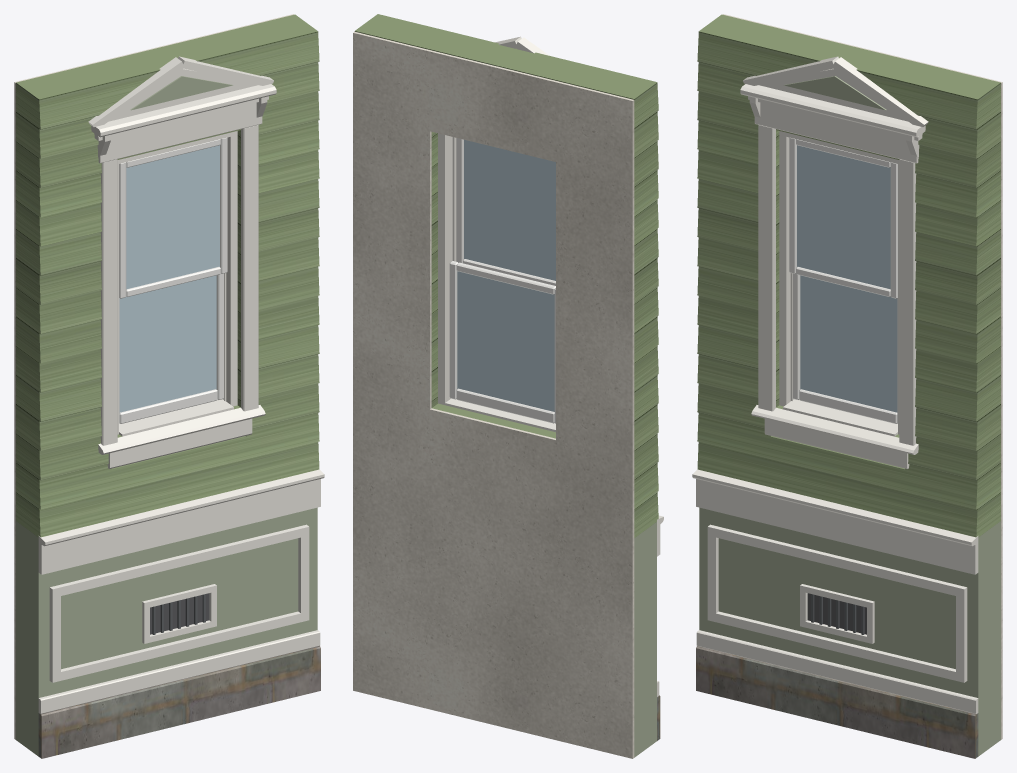
File: f_g_win_b.glb
3 views of the same model, side by side, from view 1: azimuth 30°, elevation 25°; view 2: azimuth 150°, elevation 25°; view 3: azimuth 330°, elevation 25° (orthographic).
Visible parts, largest first — view 1: f_g_win_b_siding_b, f_g_win_b_trim, f_g_win_b_acc_b, f_g_win_b_glass, f_g_win_b_plinth, f_g_win_b_sash, f_g_win_b_frame, f_g_win_b_plaster, f_g_win_b_dark, f_g_win_b_iron; view 2: f_g_win_b_plaster, f_g_win_b_glass, f_g_win_b_siding_b, f_g_win_b_sash, f_g_win_b_acc_b, f_g_win_b_frame, f_g_win_b_trim; view 3: f_g_win_b_siding_b, f_g_win_b_trim, f_g_win_b_acc_b, f_g_win_b_glass, f_g_win_b_plinth, f_g_win_b_sash, f_g_win_b_frame, f_g_win_b_plaster, f_g_win_b_dark, f_g_win_b_iron.
Boxes of the visible parts, x1,y1,x2,y2 form: f_g_win_b_siding_b: [16, 14, 319, 537]; f_g_win_b_trim: [38, 56, 324, 713]; f_g_win_b_acc_b: [16, 76, 317, 756]; f_g_win_b_glass: [119, 145, 219, 412]; f_g_win_b_plinth: [38, 646, 320, 758]; f_g_win_b_sash: [119, 137, 227, 423]; f_g_win_b_frame: [117, 131, 237, 434]; f_g_win_b_plaster: [14, 14, 293, 739]; f_g_win_b_dark: [150, 593, 209, 634]; f_g_win_b_iron: [152, 594, 205, 634]; f_g_win_b_plaster: [353, 31, 634, 758]; f_g_win_b_glass: [457, 139, 555, 411]; f_g_win_b_siding_b: [354, 14, 658, 537]; f_g_win_b_sash: [449, 138, 555, 423]; f_g_win_b_acc_b: [634, 522, 656, 757]; f_g_win_b_frame: [438, 133, 456, 404]; f_g_win_b_trim: [445, 36, 663, 696]; f_g_win_b_siding_b: [697, 14, 1000, 537]; f_g_win_b_trim: [692, 56, 978, 713]; f_g_win_b_acc_b: [699, 76, 1000, 756]; f_g_win_b_glass: [797, 145, 897, 412]; f_g_win_b_plinth: [696, 646, 978, 758]; f_g_win_b_sash: [789, 137, 897, 423]; f_g_win_b_frame: [779, 131, 899, 434]; f_g_win_b_plaster: [723, 14, 1002, 739]; f_g_win_b_dark: [807, 593, 866, 634]; f_g_win_b_iron: [811, 594, 864, 634].
Bounding box in the file's own units: 2 × 4.55 × 0.43.
Materials: 10 (3 with a texture image).
